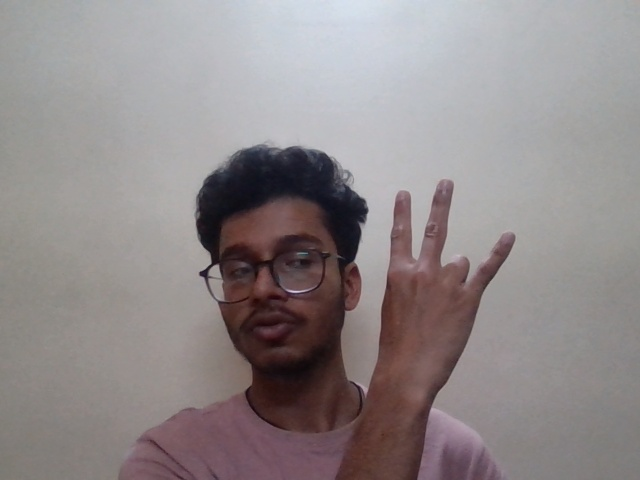why: (389, 163, 517, 387)
